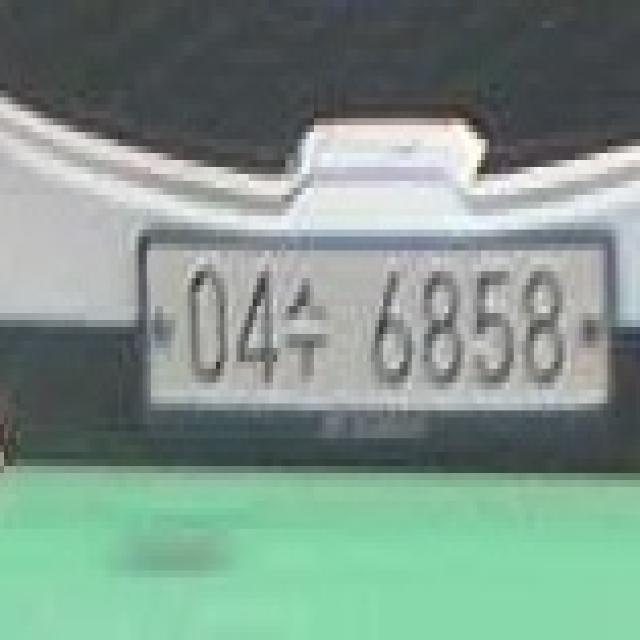plat: (135, 225, 618, 421)
